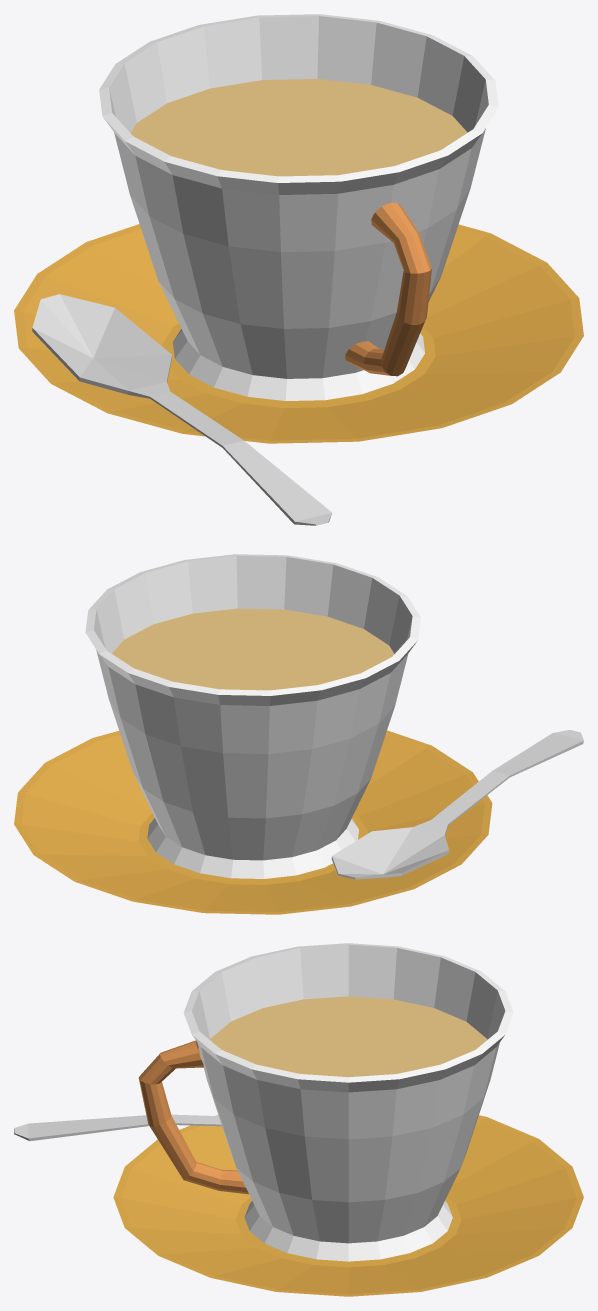
Rendered from tea-cup-and-spoon.fbx.
3 renders of one model, top to bottom at view 1: azimuth 30°, elevation 25°; view 2: azimuth 150°, elevation 25°; view 3: azimuth 270°, elevation 25°, orthographic. The views are drawn at different scales.
Parts seen in each view (by area): view 1: Cylinder.001, Cylinder, Cylinder.002; view 2: Cylinder.001, Cylinder, Cylinder.002; view 3: Cylinder.001, Cylinder, Cylinder.002.
Boxes of the visible parts, <box> form: Cylinder.001: <box>99,14,498,400</box>; Cylinder: <box>14,224,583,443</box>; Cylinder.002: <box>32,294,331,525</box>; Cylinder.001: <box>85,554,420,878</box>; Cylinder: <box>14,730,492,914</box>; Cylinder.002: <box>331,730,583,879</box>; Cylinder.001: <box>138,943,513,1261</box>; Cylinder: <box>113,1115,583,1296</box>; Cylinder.002: <box>14,1114,221,1141</box>.
Size of the model in its own units: 331 by 165 by 401.
